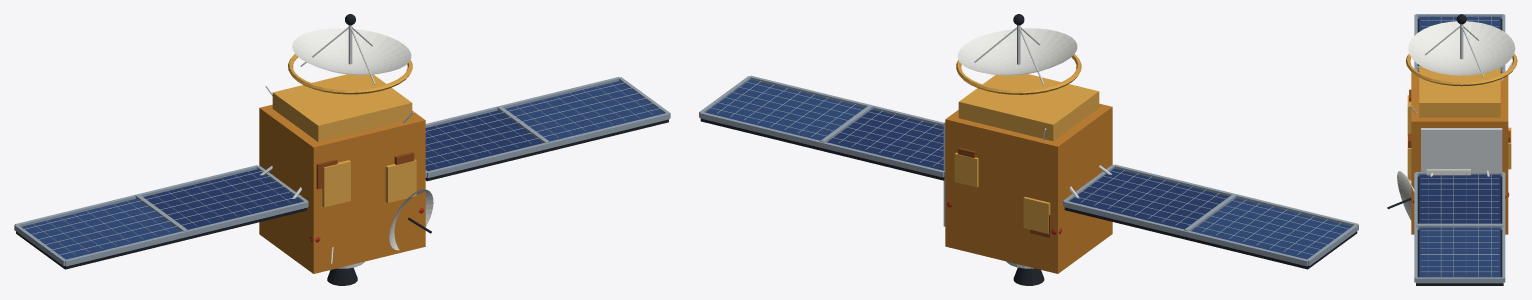
Rendered from GSAT-5P.glb.
3 views of the same model, side by side, from view 1: azimuth 30°, elevation 25°; view 2: azimuth 150°, elevation 25°; view 3: azimuth 270°, elevation 25° (orthographic). The views are drawn at different scales.
Visible parts, largest first — view 1: GSAT_5P_MAIN_BUS, GSAT_5P_TOP_PAYLOAD_DECK, GSAT_5P_LEFT_SOLAR_WING_SECTION_2, GSAT_5P_RIGHT_SOLAR_WING_SECTION_2, GSAT_5P_LEFT_SOLAR_WING_SECTION_1, GSAT_5P_RIGHT_SOLAR_WING_SECTION_1, GSAT_5P_LARGE_TOP_DISH, GSAT_5P_LEFT_SOLAR_WING_FRAME, GSAT_5P_RIGHT_SOLAR_WING_FRAME, GSAT_5P_LEFT_SOLAR_WING_CELL_GRID, GSAT_5P_THERMAL_DETAILS, GSAT_5P_RIGHT_SOLAR_WING_CELL_GRID (+6 smaller); view 2: GSAT_5P_MAIN_BUS, GSAT_5P_TOP_PAYLOAD_DECK, GSAT_5P_LEFT_SOLAR_WING_SECTION_2, GSAT_5P_RIGHT_SOLAR_WING_SECTION_2, GSAT_5P_LEFT_SOLAR_WING_SECTION_1, GSAT_5P_RIGHT_SOLAR_WING_SECTION_1, GSAT_5P_LARGE_TOP_DISH, GSAT_5P_LEFT_SOLAR_WING_FRAME, GSAT_5P_RIGHT_SOLAR_WING_FRAME, GSAT_5P_LEFT_SOLAR_WING_CELL_GRID, GSAT_5P_RIGHT_SOLAR_WING_CELL_GRID, GSAT_5P_THERMAL_DETAILS (+4 smaller); view 3: GSAT_5P_LARGE_TOP_DISH, GSAT_5P_RIGHT_SOLAR_WING_SECTION_2, GSAT_5P_RIGHT_SOLAR_WING_SECTION_1, GSAT_5P_LARGE_SIDE_RADIATOR, GSAT_5P_TOP_PAYLOAD_DECK, GSAT_5P_MAIN_BUS, GSAT_5P_RIGHT_SOLAR_WING_CELL_GRID, GSAT_5P_RIGHT_SOLAR_WING_FRAME, GSAT_5P_RIGHT_SOLAR_WING_BACKING, GSAT_5P_TOP_DISH_GOLD_RIM, GSAT_5P_LEFT_SOLAR_WING_SECTION_2, GSAT_5P_THERMAL_DETAILS (+7 smaller).
Boxes of the visible parts, x1,y1,x2,y2 form: GSAT_5P_MAIN_BUS: [259, 104, 425, 273]; GSAT_5P_TOP_PAYLOAD_DECK: [272, 74, 412, 141]; GSAT_5P_LEFT_SOLAR_WING_SECTION_2: [21, 198, 181, 259]; GSAT_5P_RIGHT_SOLAR_WING_SECTION_2: [505, 81, 664, 141]; GSAT_5P_LEFT_SOLAR_WING_SECTION_1: [143, 169, 302, 229]; GSAT_5P_RIGHT_SOLAR_WING_SECTION_1: [425, 110, 542, 171]; GSAT_5P_LARGE_TOP_DISH: [292, 28, 411, 75]; GSAT_5P_LEFT_SOLAR_WING_FRAME: [14, 165, 308, 266]; GSAT_5P_RIGHT_SOLAR_WING_FRAME: [425, 77, 670, 177]; GSAT_5P_LEFT_SOLAR_WING_CELL_GRID: [23, 170, 299, 255]; GSAT_5P_THERMAL_DETAILS: [322, 159, 416, 207]; GSAT_5P_RIGHT_SOLAR_WING_CELL_GRID: [425, 82, 661, 166]; GSAT_5P_MAIN_BUS: [945, 103, 1112, 273]; GSAT_5P_TOP_PAYLOAD_DECK: [958, 74, 1099, 141]; GSAT_5P_LEFT_SOLAR_WING_SECTION_2: [1191, 198, 1351, 259]; GSAT_5P_RIGHT_SOLAR_WING_SECTION_2: [705, 79, 865, 140]; GSAT_5P_LEFT_SOLAR_WING_SECTION_1: [1069, 168, 1228, 229]; GSAT_5P_RIGHT_SOLAR_WING_SECTION_1: [827, 109, 943, 170]; GSAT_5P_LARGE_TOP_DISH: [957, 28, 1077, 75]; GSAT_5P_LEFT_SOLAR_WING_FRAME: [1063, 164, 1358, 266]; GSAT_5P_RIGHT_SOLAR_WING_FRAME: [699, 75, 945, 177]; GSAT_5P_LEFT_SOLAR_WING_CELL_GRID: [1072, 170, 1350, 255]; GSAT_5P_RIGHT_SOLAR_WING_CELL_GRID: [708, 81, 943, 166]; GSAT_5P_THERMAL_DETAILS: [954, 152, 1050, 233]; GSAT_5P_LARGE_TOP_DISH: [1408, 21, 1515, 75]; GSAT_5P_RIGHT_SOLAR_WING_SECTION_2: [1419, 227, 1500, 277]; GSAT_5P_RIGHT_SOLAR_WING_SECTION_1: [1419, 174, 1500, 223]; GSAT_5P_LARGE_SIDE_RADIATOR: [1421, 128, 1502, 172]; GSAT_5P_TOP_PAYLOAD_DECK: [1419, 65, 1500, 117]; GSAT_5P_MAIN_BUS: [1411, 72, 1508, 234]; GSAT_5P_RIGHT_SOLAR_WING_CELL_GRID: [1420, 172, 1499, 277]; GSAT_5P_RIGHT_SOLAR_WING_FRAME: [1414, 172, 1505, 283]; GSAT_5P_RIGHT_SOLAR_WING_BACKING: [1416, 176, 1503, 285]; GSAT_5P_TOP_DISH_GOLD_RIM: [1406, 54, 1517, 86]; GSAT_5P_LEFT_SOLAR_WING_SECTION_2: [1419, 17, 1500, 31]; GSAT_5P_THERMAL_DETAILS: [1407, 95, 1511, 180].
Size of the model in its own units: 6.77 by 2.79 by 1.41.
